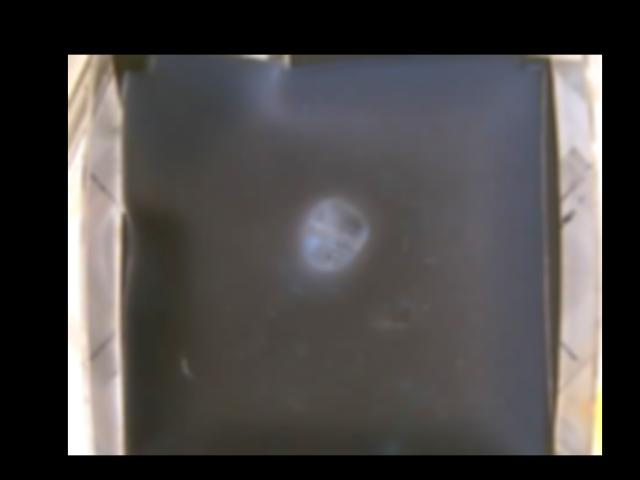Pebble: (304, 197, 368, 268)
